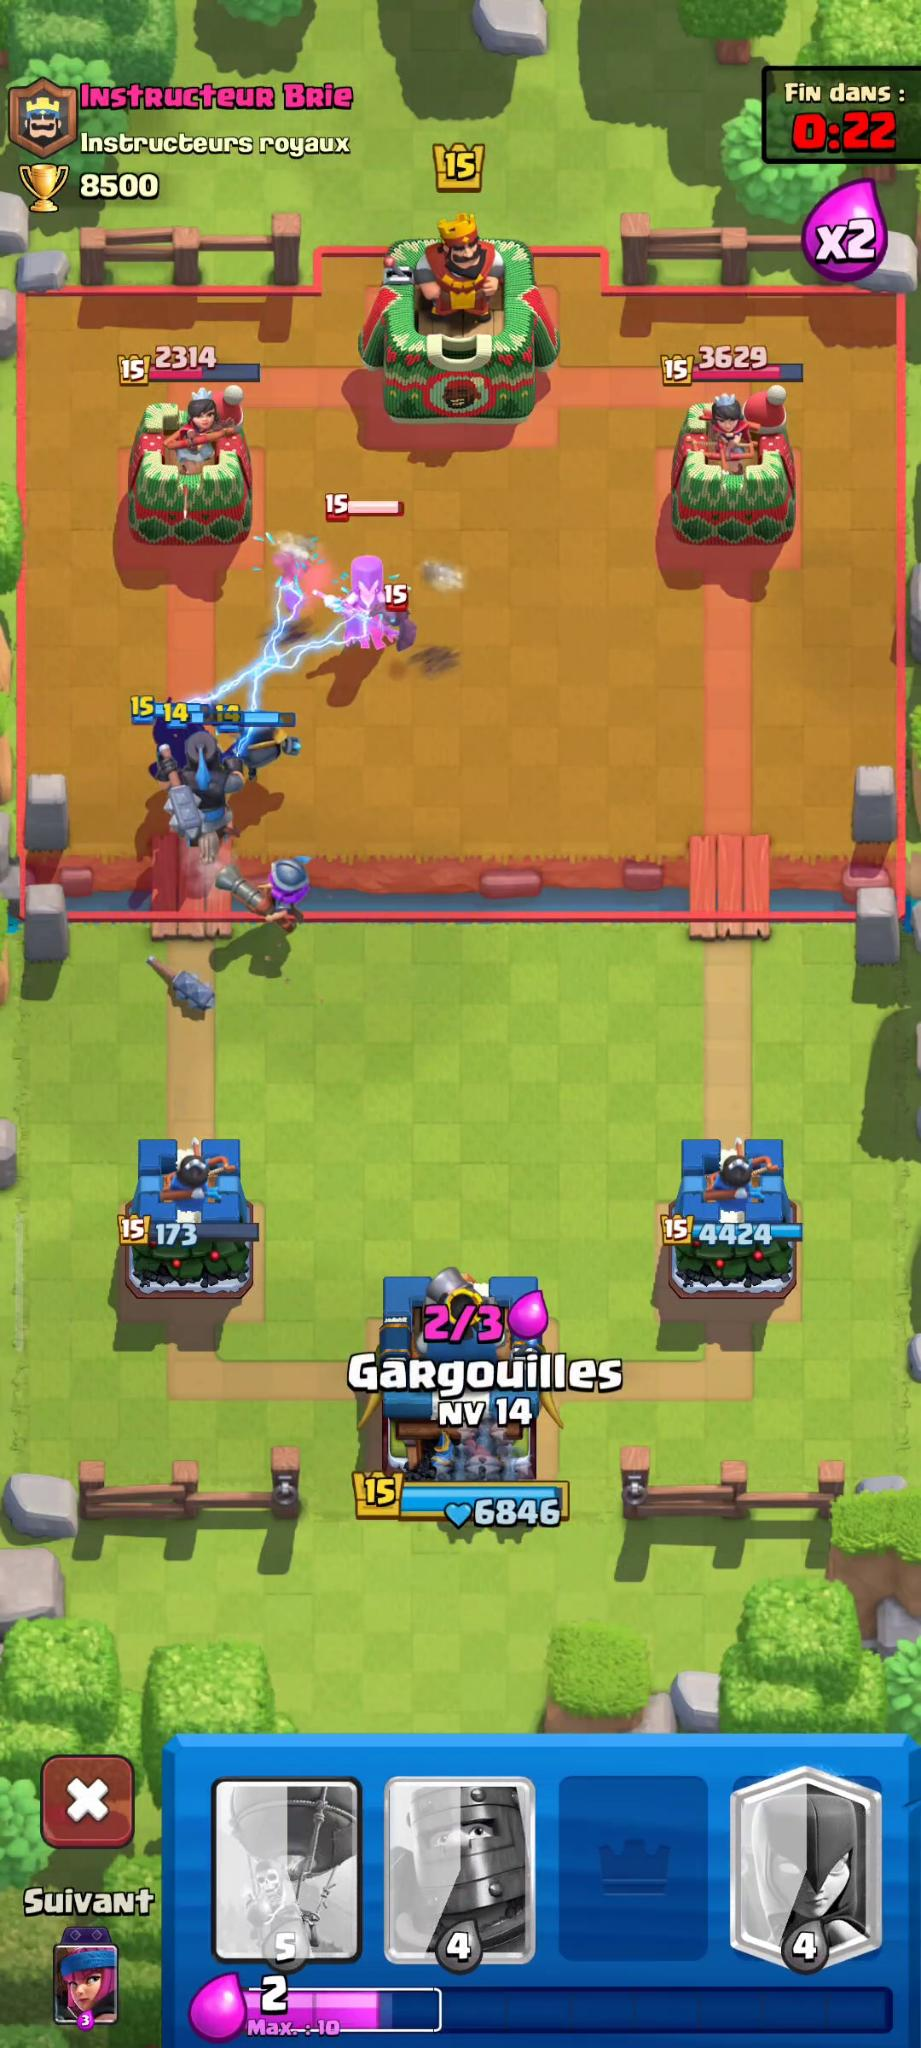bat: (371, 583, 427, 653)
gargouille: (489, 1447, 547, 1496), (426, 1439, 466, 1498), (461, 1428, 508, 1476)
mini_PEKKA: (218, 699, 314, 810)
mousquetaire: (213, 846, 327, 948)
